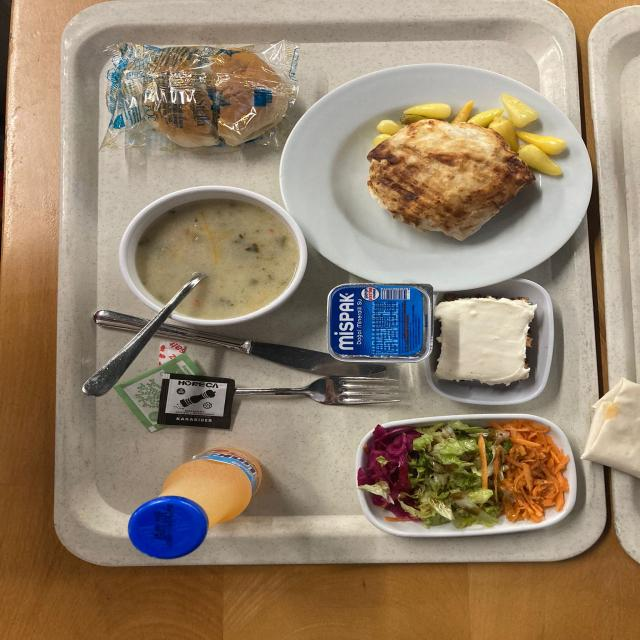ana_yemek: (337, 76, 571, 282)
corba: (122, 189, 303, 330)
yan_yemek: (353, 412, 564, 544)
